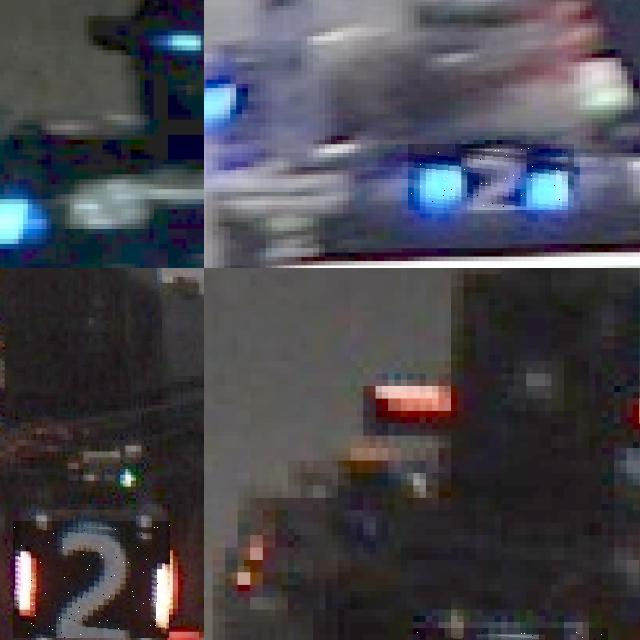B2: (408, 144, 574, 210)
R2: (13, 521, 170, 638)
